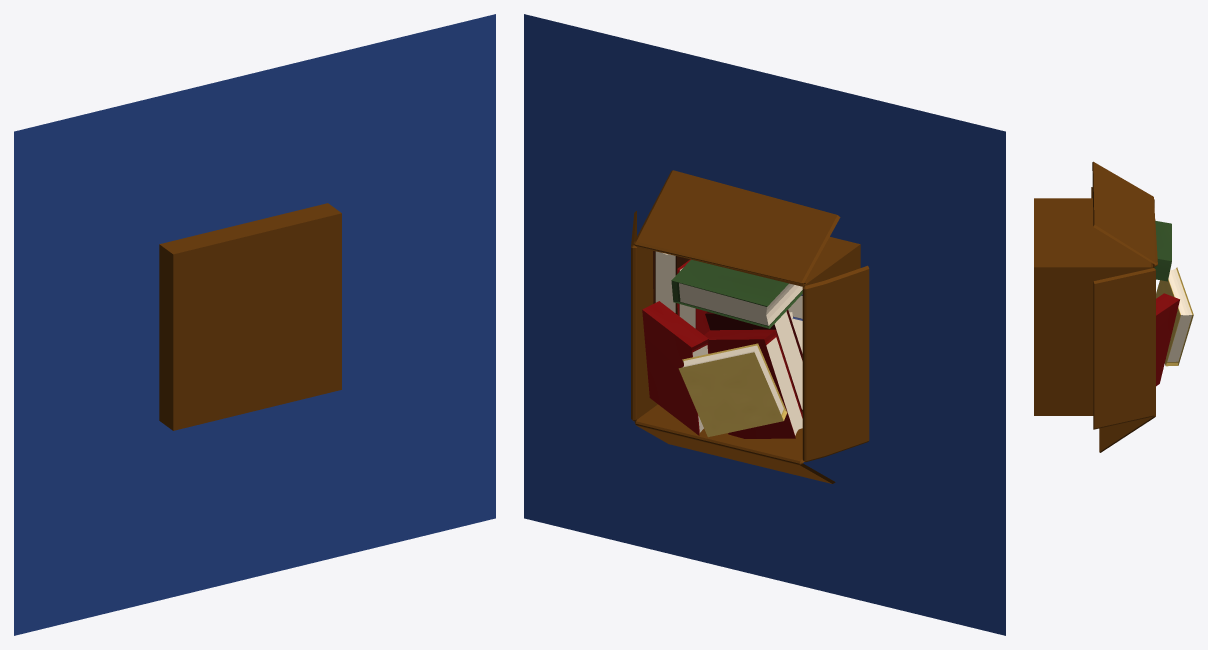
The model's file is UtilityRoom_BooksBox.fbx.
3 views of the same model, side by side, from view 1: azimuth 30°, elevation 25°; view 2: azimuth 150°, elevation 25°; view 3: azimuth 270°, elevation 25° (orthographic). The views are drawn at different scales.
Parts seen in each view (by area): view 1: Plane.296, BookBox; view 2: Plane.296, BookBox; view 3: BookBox.
Part boxes in pixels (x1,y1,x2,y2): Plane.296: (14,14,495,635); BookBox: (159,203,341,430); Plane.296: (524,14,1005,635); BookBox: (631,170,869,483); BookBox: (1034,161,1193,452).
Size of the model in its own units: 2 by 2 by 0.6824.
